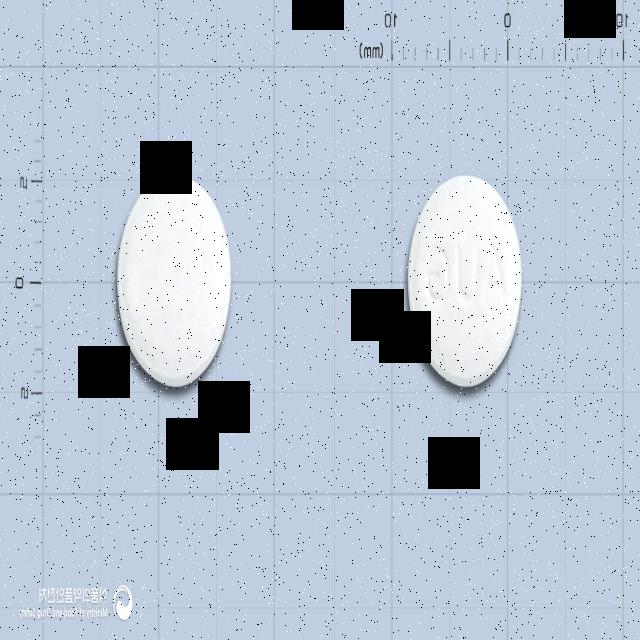Ilsung Augmentin - 625mg: (115, 172, 231, 388), (406, 173, 522, 388)
